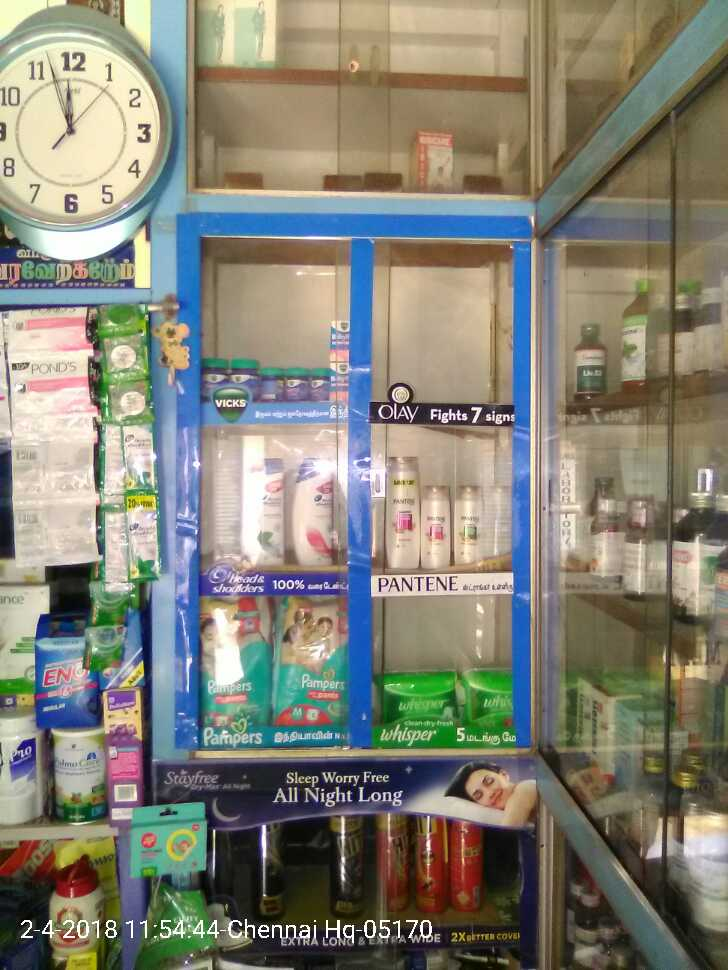vicks: (202, 357, 332, 400), (332, 319, 352, 400)
